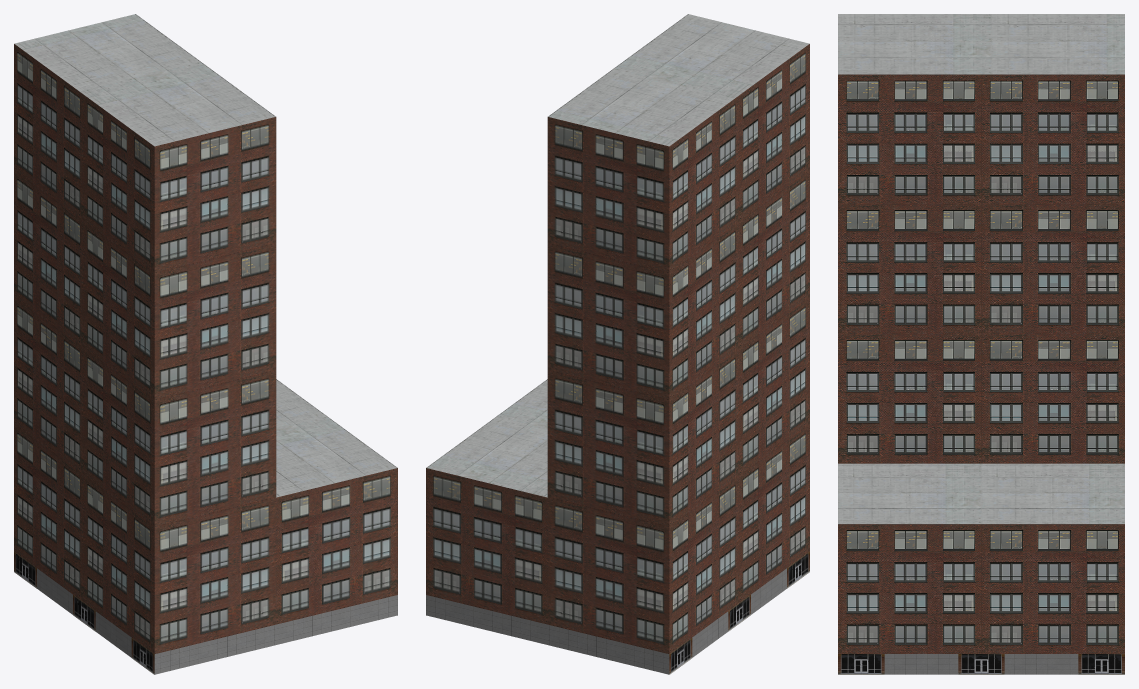
Rendered from Building02.fbx.
3 views of the same model, side by side, from view 1: azimuth 30°, elevation 25°; view 2: azimuth 150°, elevation 25°; view 3: azimuth 270°, elevation 25° (orthographic). The views are drawn at different scales.
Visible parts, largest first — view 1: Building02; view 2: Building02; view 3: Building02.
Part boxes in pixels (x1=…): Building02: x1=14, y1=14, x2=397, y2=674; Building02: x1=426, y1=14, x2=809, y2=674; Building02: x1=838, y1=14, x2=1124, y2=674.
Bounding box in the file's own units: 31.53 × 65.44 × 31.53.
